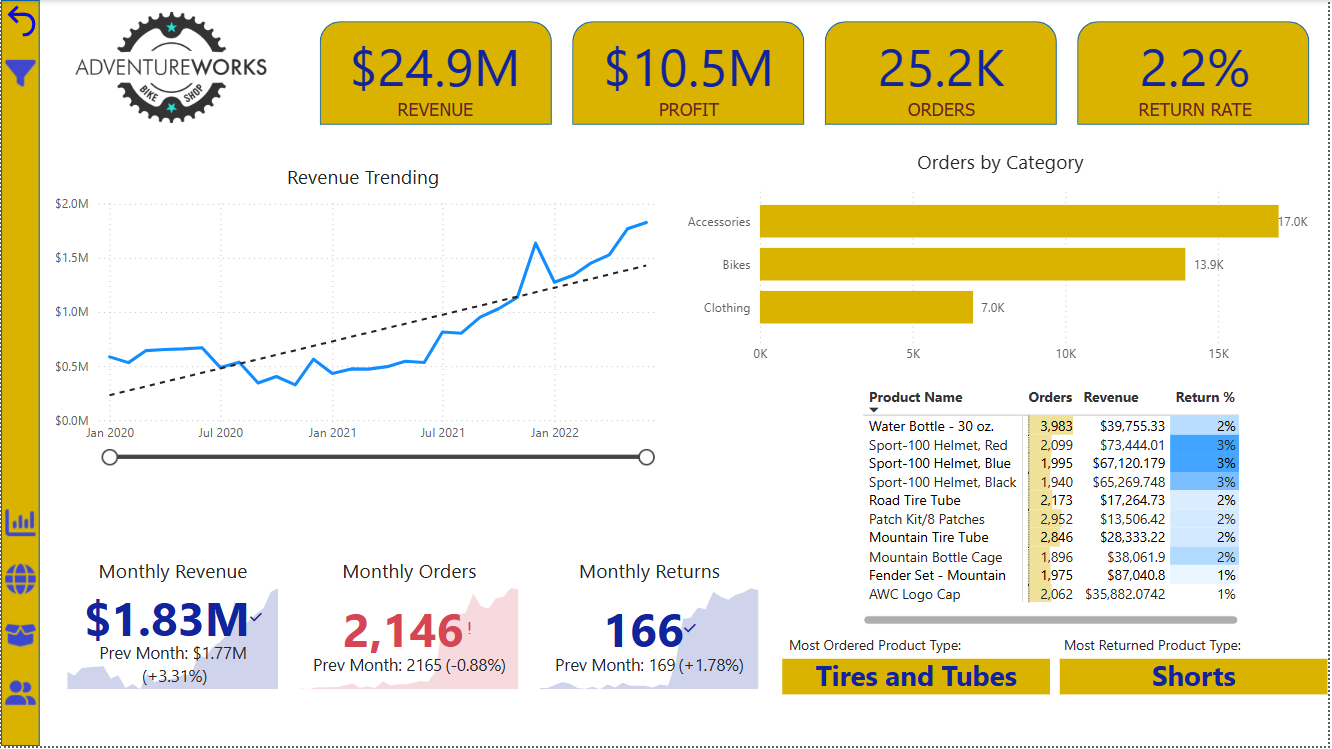

The page's visual inventory and layout, read from the dashboard file:
{"tool":"powerbi","page":{"name":"Executive","canvas":[1280,720],"ordinal":0},"visuals":[{"type":"image","title":"AW Logo","box":[47.1,0,235.3,130.3],"z":0},{"type":"card","fields":{"Values":["Measure Table.Total Revenue"]},"box":[294.3,0,249.6,144.3],"z":0,"group":"g5"},{"type":"shape","box":[307.6,20.5,224.4,100.1],"z":0,"group":"g4"},{"type":"group","id":"g1","title":"Group 1","box":[551.3,20.5,224.4,100.1],"z":0,"group":"g3"},{"type":"shape","box":[551.3,20.5,224.4,100.1],"z":0,"group":"g1"},{"type":"shape","box":[795,20.5,224.4,100.1],"z":0,"group":"g2"},{"type":"shape","box":[1038.7,20.5,224.4,100.1],"z":0,"group":"g6"},{"type":"actionButton","box":[0,475.3,37.7,58.4],"z":0,"group":"g7"},{"type":"shape","title":"Left Nav Background","box":[0,0,37.4,720.2],"z":1000},{"type":"card","fields":{"Values":["Measure Table.Total Profit"]},"box":[538.6,0,249.6,144.3],"z":1000,"group":"g5"},{"type":"group","id":"g2","title":"Group 1","box":[795,20.5,224.4,100.1],"z":1000,"group":"g3"},{"type":"actionButton","box":[0,529.8,37.7,58.4],"z":1000,"group":"g7"},{"type":"card","fields":{"Values":["Measure Table.Total Orders"]},"box":[782.9,0,249.6,144.3],"z":2000,"group":"g5"},{"type":"group","id":"g3","title":"KPI Backgrounds","box":[307.6,20.5,955.5,100.1],"z":2000},{"type":"group","id":"g4","title":"Group 1","box":[307.6,20.5,224.4,100.1],"z":2000,"group":"g3"},{"type":"actionButton","box":[0,584.4,37.7,58.4],"z":2000,"group":"g7"},{"type":"group","id":"g5","title":"KPI Values","box":[294.3,0,982.5,144.3],"z":3000},{"type":"card","fields":{"Values":["Measure Table.Return Rate"]},"box":[1027.2,0,249.6,144.3],"z":3000,"group":"g5"},{"type":"group","id":"g6","title":"Group 1","box":[1038.7,20.5,224.4,100.1],"z":3000,"group":"g3"},{"type":"actionButton","box":[0,638.9,37.7,58.4],"z":3000,"group":"g7"},{"type":"lineChart","title":"Revenue Trending","fields":{"Y":["Measure Table.Total Revenue"],"Category":["Calendar Lookup.Year","Calendar Lookup.Start of Quarter","Calendar Lookup.Start of Month"]},"box":[47.5,157.5,605,293.8],"z":4000},{"type":"kpi","title":"Monthly Revenue","fields":{"Indicator":["Measure Table.Total Revenue"],"TrendLine":["Calendar Lookup.Start of Month"],"Goal":["Measure Table.Previous Month Revenue"]},"box":[58.8,537.5,213.8,132.5],"z":5000},{"type":"kpi","title":"Monthly Orders","fields":{"TrendLine":["Calendar Lookup.Start of Month"],"Indicator":["Measure Table.Total Orders"],"Goal":["Measure Table.Previous Month Orders"]},"box":[283.1,537.5,221.2,132.5],"z":6000},{"type":"kpi","title":"Monthly Returns","fields":{"TrendLine":["Calendar Lookup.Start of Month"],"Indicator":["Measure Table.Total Returns"],"Goal":["Measure Table.Previous Month Returns"]},"box":[515,537.5,221.2,132.5],"z":7000},{"type":"barChart","title":"Orders by Category","fields":{"Category":["Product Category Lookup.CategoryName"],"Y":["Measure Table.Total Orders"]},"box":[652.5,143.8,623.8,216.2],"z":8000},{"type":"pivotTable","fields":{"Rows":["Product Lookup.ProductName"],"Values":["Measure Table.Total Orders","Measure Table.Total Revenue","Measure Table.Return Rate"]},"box":[827.5,368.8,372.5,238.8],"z":9000},{"type":"card","fields":{"Values":["Min(Product Subcategory Lookup.SubcategoryName)"]},"box":[754.6,635.7,258.6,34.3],"z":10000},{"type":"textbox","box":[755,607.5,190,31.2],"z":11000},{"type":"card","fields":{"Values":["Min(Product Subcategory Lookup.SubcategoryName)"]},"box":[1021.4,635.7,258.6,34.3],"z":12000},{"type":"textbox","box":[1021.2,607.5,190,32.5],"z":13000},{"type":"actionButton","box":[0,0,100,40],"z":14000},{"type":"group","id":"g7","title":"Navigation Buttons","box":[0,475.3,37.7,222.1],"z":15000},{"type":"actionButton","box":[0,50,37.5,42.5],"z":16000}]}

Visuals, with their boxes on the page's 1280x720 design canvas (x1, y1, x2, y2). These are canvas units, not pixel positions in the 1332x749 screenshot, which may show the page scaled, cropped or inside an application window:
"AW Logo" image: bbox=[47, 0, 282, 130]
card - Measure Table.Total Revenue: bbox=[294, 0, 544, 144]
shape: bbox=[308, 20, 532, 121]
"Group 1" group: bbox=[551, 20, 776, 121]
shape: bbox=[551, 20, 776, 121]
shape: bbox=[795, 20, 1019, 121]
shape: bbox=[1039, 20, 1263, 121]
actionButton: bbox=[0, 475, 38, 534]
"Left Nav Background" shape: bbox=[0, 0, 37, 720]
card - Measure Table.Total Profit: bbox=[539, 0, 788, 144]
"Group 1" group: bbox=[795, 20, 1019, 121]
actionButton: bbox=[0, 530, 38, 588]
card - Measure Table.Total Orders: bbox=[783, 0, 1032, 144]
"KPI Backgrounds" group: bbox=[308, 20, 1263, 121]
"Group 1" group: bbox=[308, 20, 532, 121]
actionButton: bbox=[0, 584, 38, 643]
"KPI Values" group: bbox=[294, 0, 1277, 144]
card - Measure Table.Return Rate: bbox=[1027, 0, 1277, 144]
"Group 1" group: bbox=[1039, 20, 1263, 121]
actionButton: bbox=[0, 639, 38, 697]
"Revenue Trending" lineChart: bbox=[48, 158, 652, 451]
"Monthly Revenue" kpi: bbox=[59, 538, 273, 670]
"Monthly Orders" kpi: bbox=[283, 538, 504, 670]
"Monthly Returns" kpi: bbox=[515, 538, 736, 670]
"Orders by Category" barChart: bbox=[652, 144, 1276, 360]
pivotTable - Product Lookup.ProductName x Measure Table.Total Orders: bbox=[828, 369, 1200, 608]
card - Min(Product Subcategory Lookup.SubcategoryName): bbox=[755, 636, 1013, 670]
textbox: bbox=[755, 608, 945, 639]
card - Min(Product Subcategory Lookup.SubcategoryName): bbox=[1021, 636, 1280, 670]
textbox: bbox=[1021, 608, 1211, 640]
actionButton: bbox=[0, 0, 100, 40]
"Navigation Buttons" group: bbox=[0, 475, 38, 697]
actionButton: bbox=[0, 50, 38, 92]
